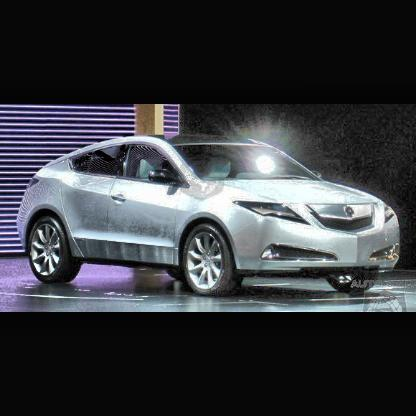Acura ZDX Hatchback 2012: (19, 136, 402, 300)
